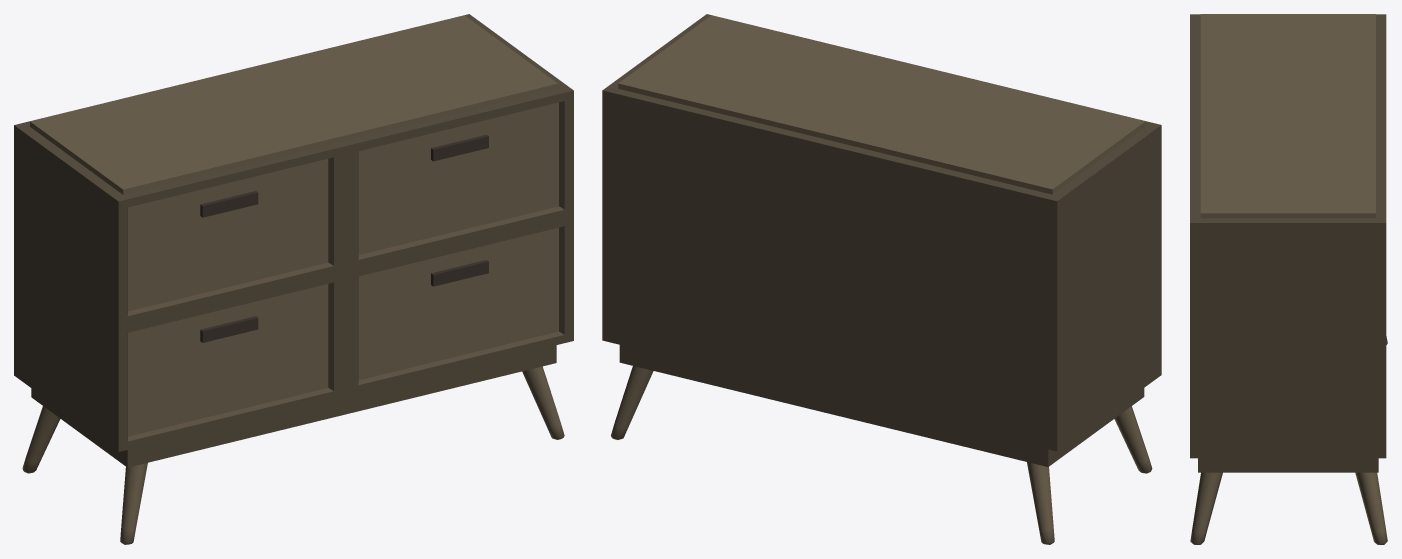
The model's file is Drawer_4.glb.
The picture shows the model from 3 angles, left to right: view 1: azimuth 30°, elevation 25°; view 2: azimuth 150°, elevation 25°; view 3: azimuth 270°, elevation 25°; orthographic projection. The views are drawn at different scales.
Parts seen in each view (by area): view 1: Drawer_4; view 2: Drawer_4; view 3: Drawer_4.
Part boxes in pixels (x1,y1,x2,y2): Drawer_4: (14,14,573,544); Drawer_4: (602,14,1161,544); Drawer_4: (1190,14,1387,544).
Size of the model in its own units: 1.37 by 1.01 by 0.547.
Materials: 3 (3 with a texture image).
